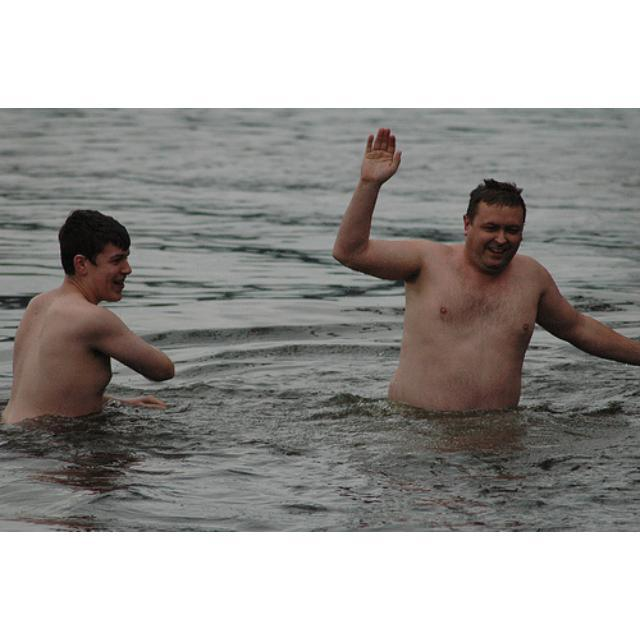human: (331, 127, 639, 412), (1, 208, 185, 428)
